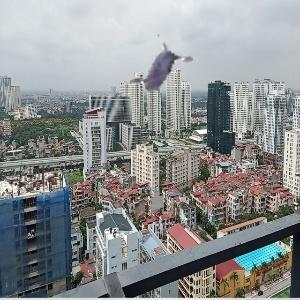drone: (104, 16, 215, 127)
